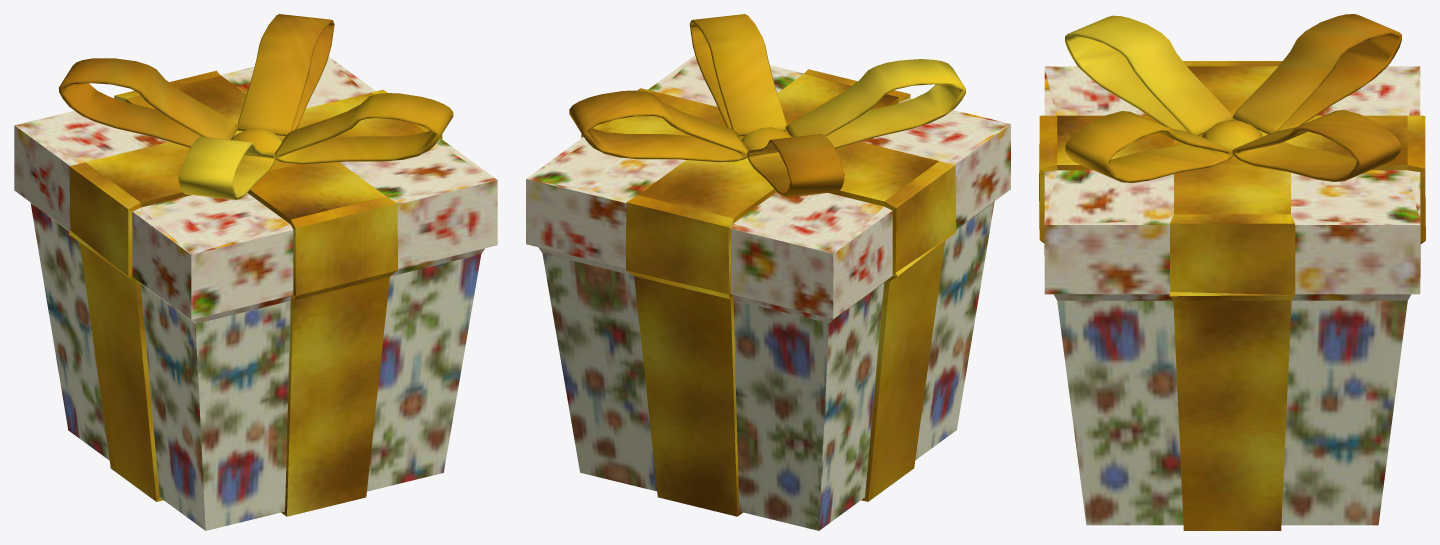
File: giftbox_2(1).fbx
3 renders of one model, left to right at view 1: azimuth 30°, elevation 25°; view 2: azimuth 150°, elevation 25°; view 3: azimuth 270°, elevation 25°, orthographic. The views are drawn at different scales.
Visible parts, largest first — view 1: Giftbox_2_0; view 2: Giftbox_2_0; view 3: Giftbox_2_0.
Boxes of the visible parts, x1,y1,x2,y2 form: Giftbox_2_0: (14, 14, 497, 530); Giftbox_2_0: (526, 14, 1010, 530); Giftbox_2_0: (1039, 14, 1425, 530).
Bounding box in the file's own units: 66.42 × 74.27 × 66.22.
1 material, 1 textured.
